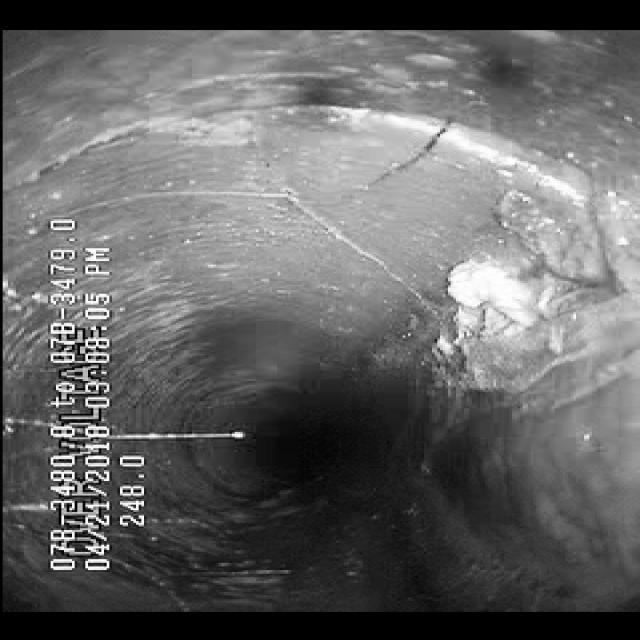Crack: (266, 168, 428, 300)
